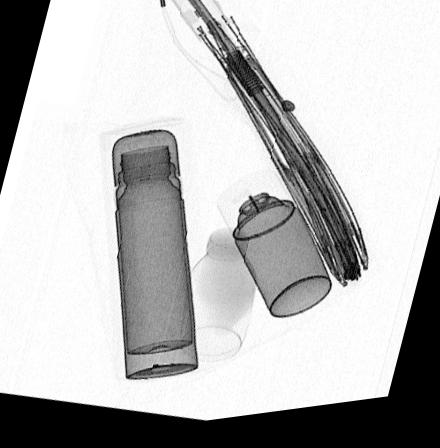Sprayer: (214, 174, 334, 327)
